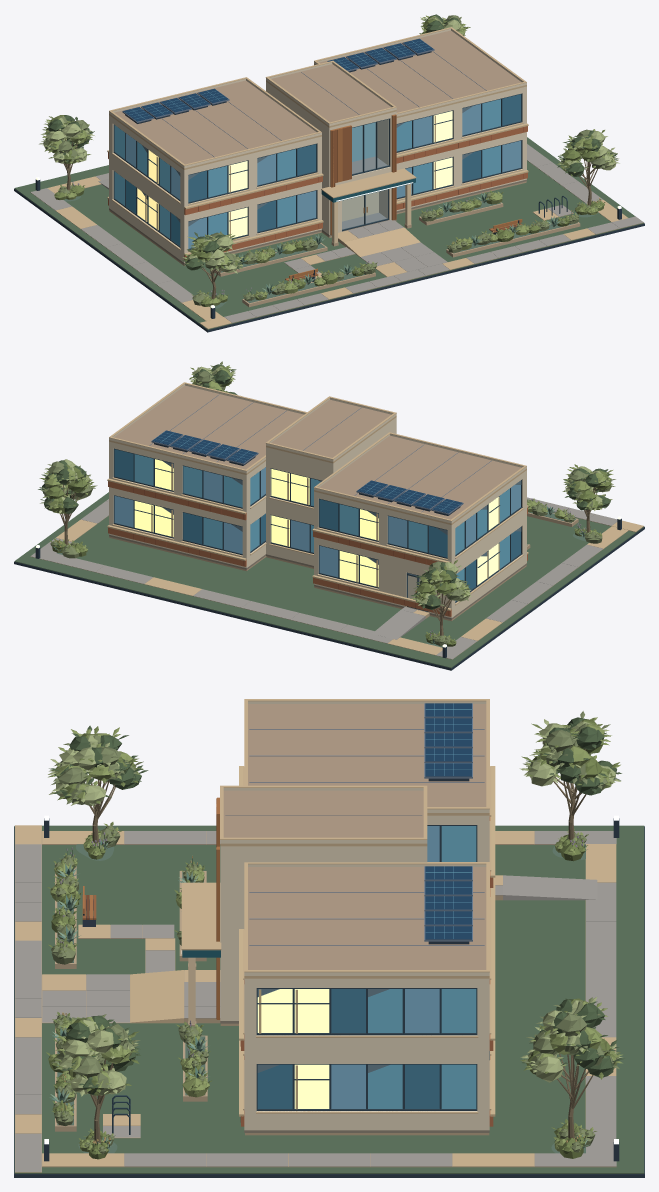
File: escuela_primaria.fbx
3 views of the same model, one above another, from view 1: azimuth 30°, elevation 25°; view 2: azimuth 150°, elevation 25°; view 3: azimuth 270°, elevation 25° (orthographic). The views are drawn at different scales.
Parts seen in each view (by area): view 1: Marquesinas, Islas de plantacion, Muros, Acristalamiento opaco, Senderos y explanadas, Remates minerales, Marcos y lamas, Setos y herbaceas, Equipamiento de fachada, Piedra y bordillos, Cristales transparentes, Arbol 15 (+4 smaller); view 2: Marquesinas, Islas de plantacion, Acristalamiento opaco, Muros, Senderos y explanadas, Marcos y lamas, Remates minerales, Equipamiento de fachada, Arbol 13, Piedra y bordillos, Arbol 12, Arbol 14 (+2 smaller); view 3: Islas de plantacion, Marquesinas, Senderos y explanadas, Muros, Acristalamiento opaco, Setos y herbaceas, Equipamiento de fachada, Marcos y lamas, Arbol 13, Arbol 12, Arbol 15, Arbol 14 (+3 smaller).
Boxes of the visible parts, <box> form: Marquesinas: <box>109,27,526,202</box>; Islas de plantacion: <box>14,137,644,329</box>; Muros: <box>109,82,526,262</box>; Acristalamiento opaco: <box>114,94,521,248</box>; Senderos y explanadas: <box>30,144,643,328</box>; Remates minerales: <box>108,114,527,265</box>; Marcos y lamas: <box>107,93,528,255</box>; Setos y herbaceas: <box>54,182,605,306</box>; Equipamiento de fachada: <box>122,38,434,234</box>; Piedra y bordillos: <box>14,188,644,332</box>; Cristales transparentes: <box>342,119,388,229</box>; Arbol 15: <box>557,129,619,206</box>; Marquesinas: <box>109,382,526,524</box>; Islas de plantacion: <box>14,492,644,668</box>; Acristalamiento opaco: <box>114,449,521,601</box>; Muros: <box>109,417,526,617</box>; Senderos y explanadas: <box>30,497,643,659</box>; Marcos y lamas: <box>107,448,528,611</box>; Remates minerales: <box>108,477,527,621</box>; Equipamiento de fachada: <box>151,430,463,515</box>; Arbol 13: <box>38,459,97,544</box>; Piedra y bordillos: <box>14,512,644,670</box>; Arbol 12: <box>410,560,471,635</box>; Arbol 14: <box>562,464,615,532</box>; Islas de plantacion: <box>14,825,644,1173</box>; Marquesinas: <box>181,699,489,978</box>; Senderos y explanadas: <box>15,825,616,1172</box>; Muros: <box>220,815,489,1130</box>; Acristalamiento opaco: <box>257,826,476,1108</box>; Setos y herbaceas: <box>46,822,596,1159</box>; Equipamiento de fachada: <box>216,703,472,1019</box>; Marcos y lamas: <box>239,766,495,1116</box>; Arbol 13: <box>520,997,624,1138</box>; Arbol 12: <box>519,711,621,839</box>; Arbol 15: <box>51,1014,140,1143</box>; Arbol 14: <box>48,725,148,843</box>.
Bounding box in the file's own units: 30 × 7.7 × 23.
